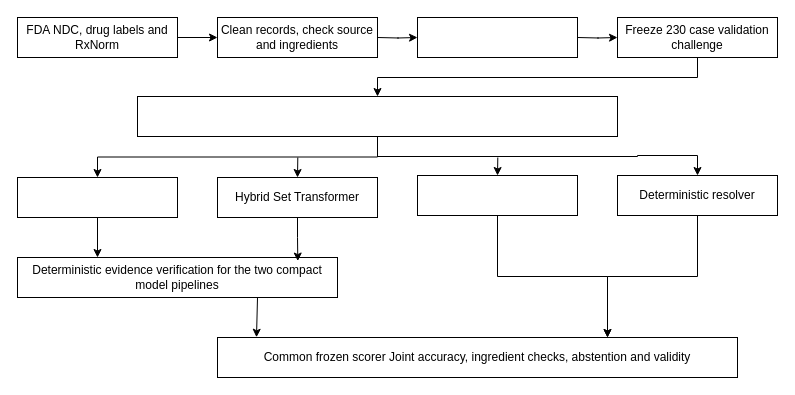
Image size: 795x395. Some labels were removed from this diagram. Each missing label, with the centre of its shape:
"Common medicine request and retrieved evidence" belongs at (x=377, y=116).
"Frozen Gemma 4 - 31B" belongs at (x=497, y=195).
"Group families and prepare task cases" belongs at (x=497, y=37).
"XGBoost" belongs at (x=97, y=197).
